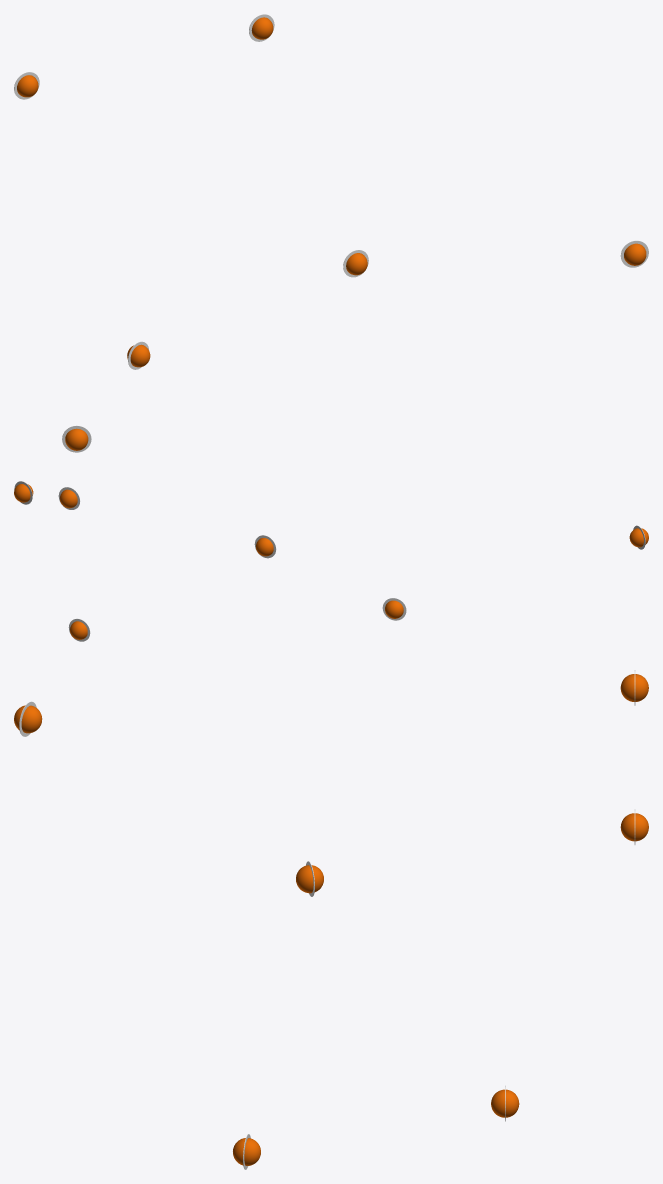
File: detmay_L5.glb
3 renders of one model, top to bottom at view 1: azimuth 30°, elevation 25°; view 2: azimuth 150°, elevation 25°; view 3: azimuth 270°, elevation 25°, orthographic. The views are drawn at different scales.
Parts seen in each view (by area): view 1: _l5_Sphere.001, _l5_Sphere.005; view 2: _l5_Sphere, _l5_Sphere.004, _l5_Sphere.002, _l5_Sphere.003, _l5_Sphere.005, _l5_Sphere.001; view 3: _l5_Sphere.001.
Boxes of the visible parts, <box> form: _l5_Sphere.001: <box>62,425,91,452</box>; _l5_Sphere.005: <box>620,240,648,267</box>; _l5_Sphere: <box>382,598,406,620</box>; _l5_Sphere.004: <box>68,618,90,641</box>; _l5_Sphere.002: <box>254,535,276,558</box>; _l5_Sphere.003: <box>58,487,80,509</box>; _l5_Sphere.005: <box>14,481,33,504</box>; _l5_Sphere.001: <box>629,525,648,549</box>; _l5_Sphere.001: <box>14,701,42,736</box>.
Size of the model in its own units: 13.69 by 4.55 by 9.2.
